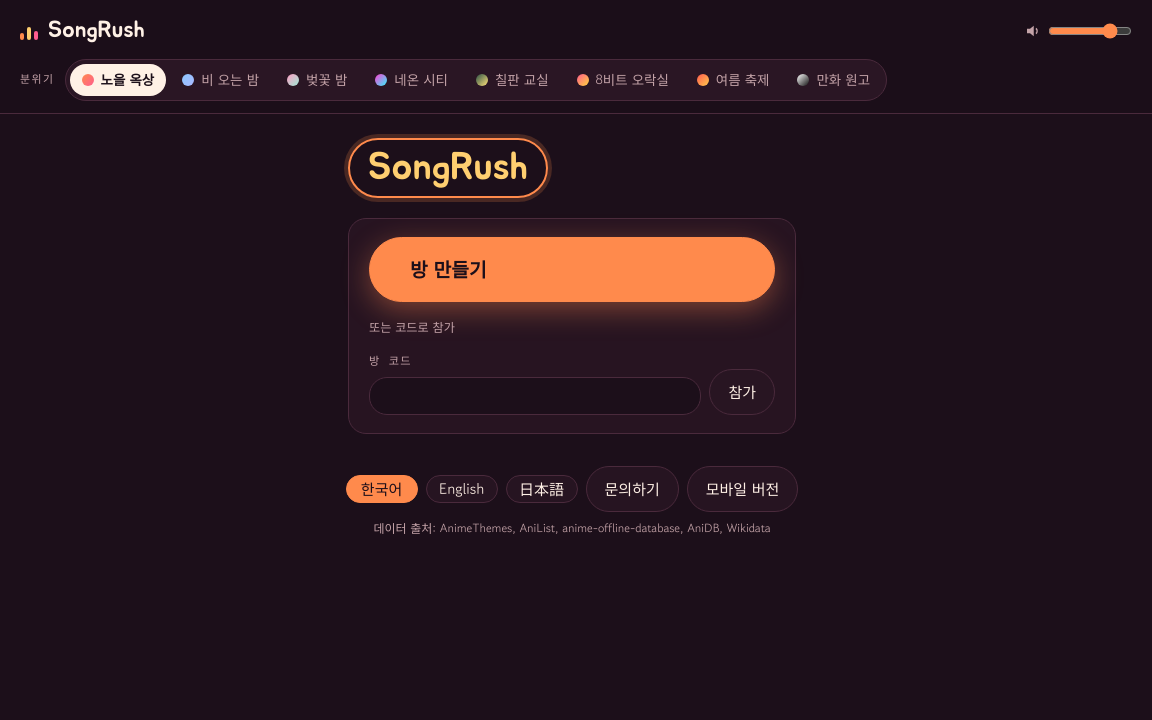
Test: token storage › token{T1} stores {token:"T1", code} under songrush.rejoin; 나가기 clears it
The image size is (1152, 720).
Click the button "방 만들기".
click(448, 269)  # box left=369, top=237, right=775, bottom=302
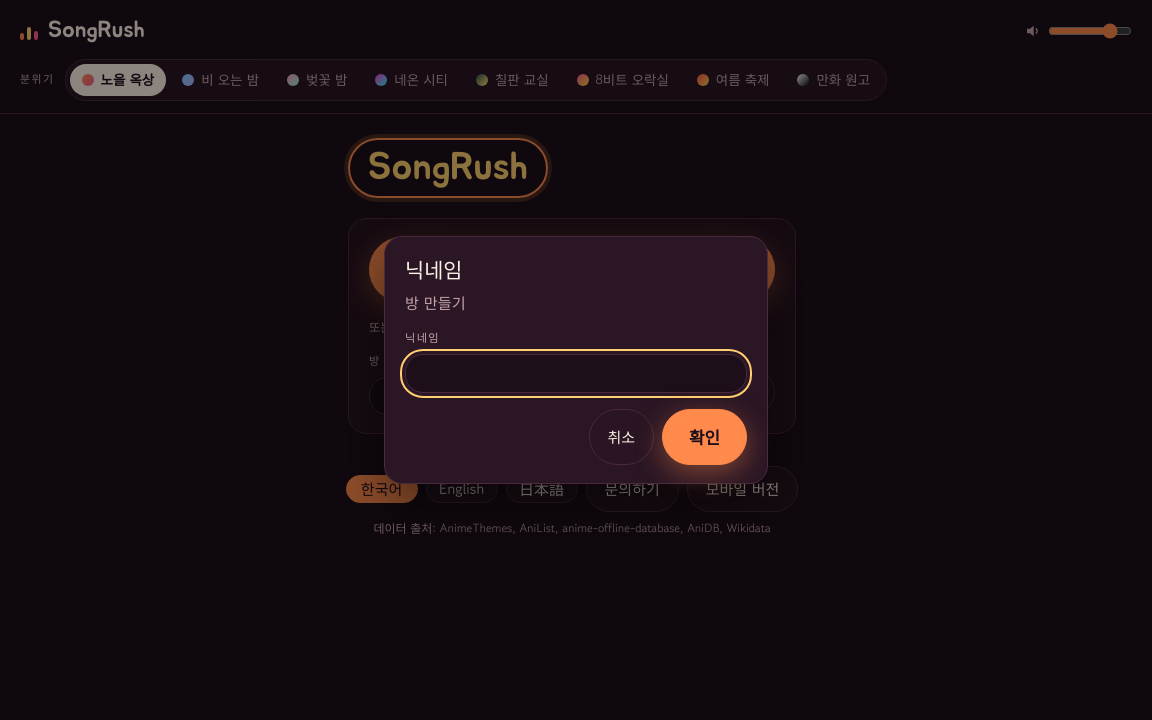
Type "하루" into the field.
click(576, 373); type("하루")  # box left=405, top=354, right=747, bottom=392
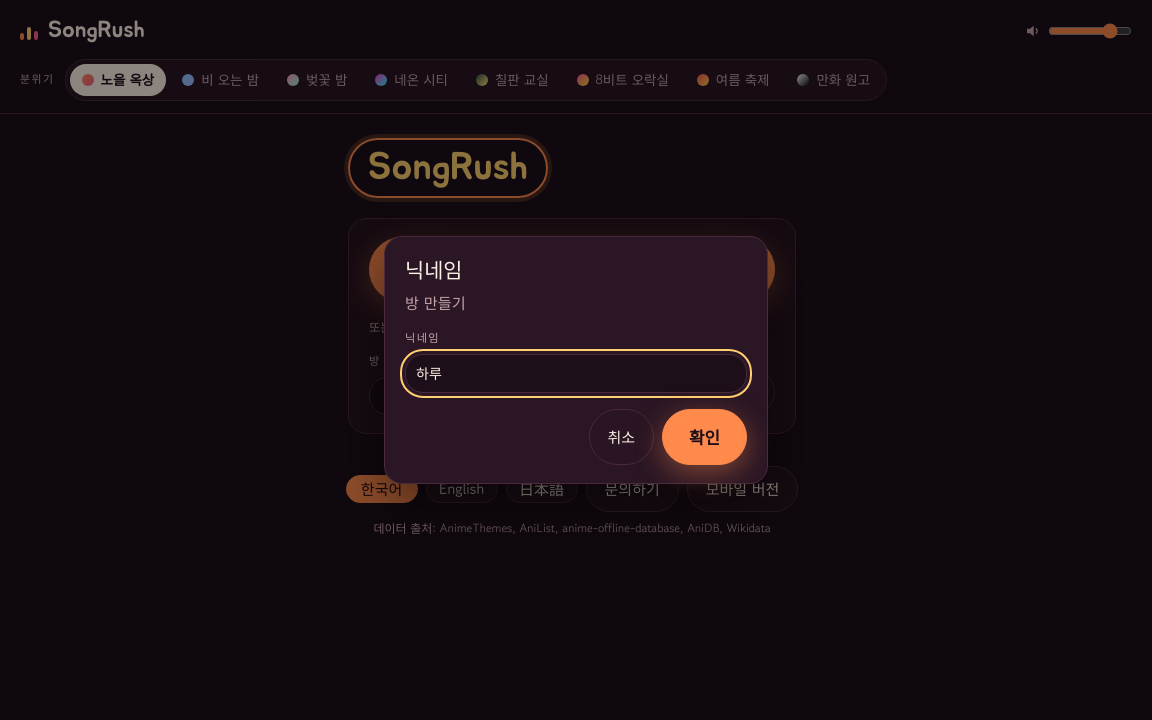
Click the button "확인".
click(705, 437)  # box left=662, top=409, right=747, bottom=466
(page scrolled)
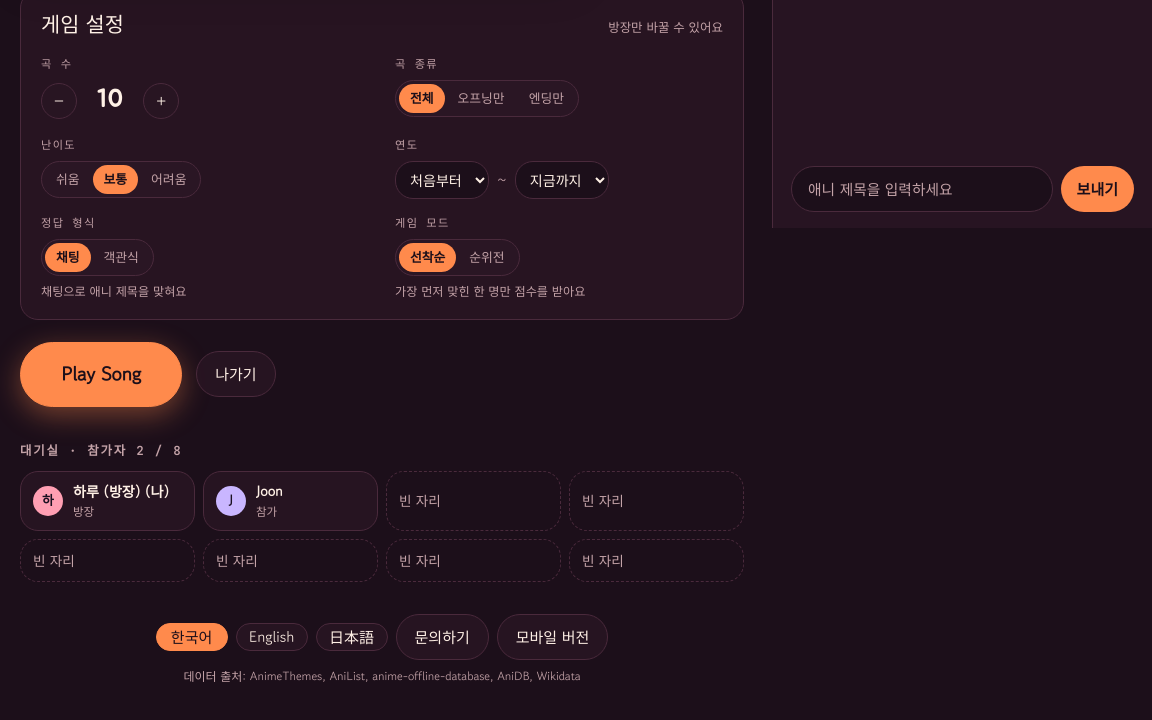
Click the button "나가기".
click(236, 374)  # box left=196, top=352, right=276, bottom=398
(page scrolled)
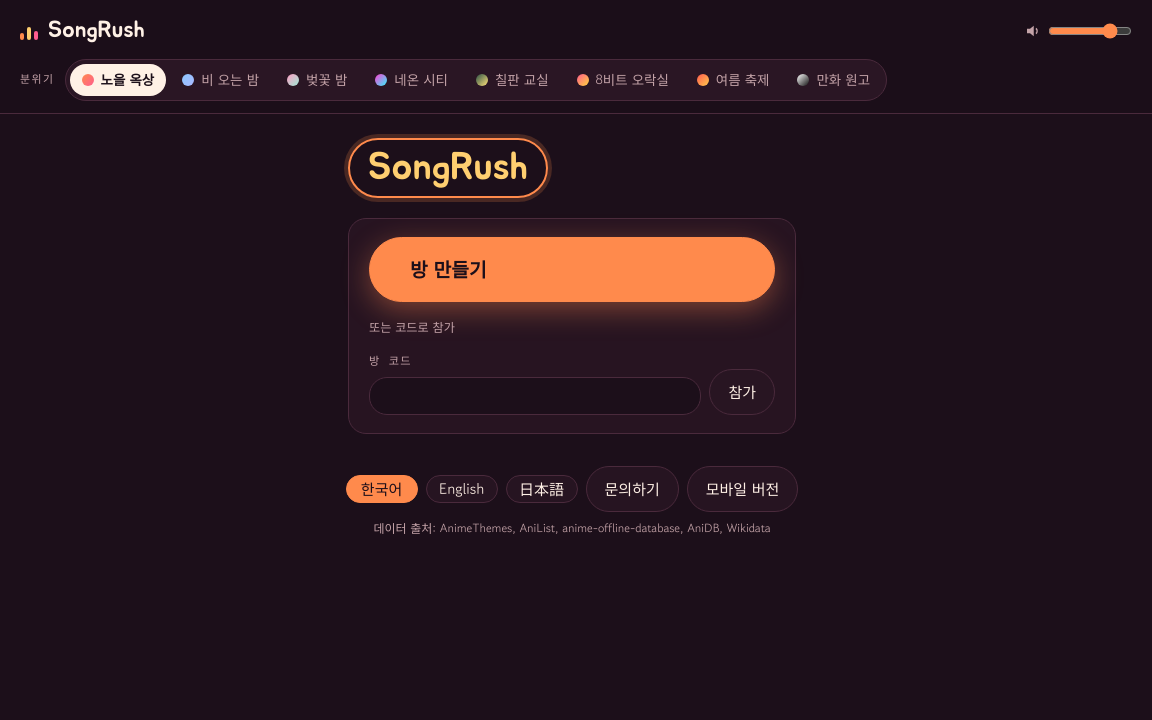
Result: the button "방 만들기" is shown at left=369, top=237, right=775, bottom=302
